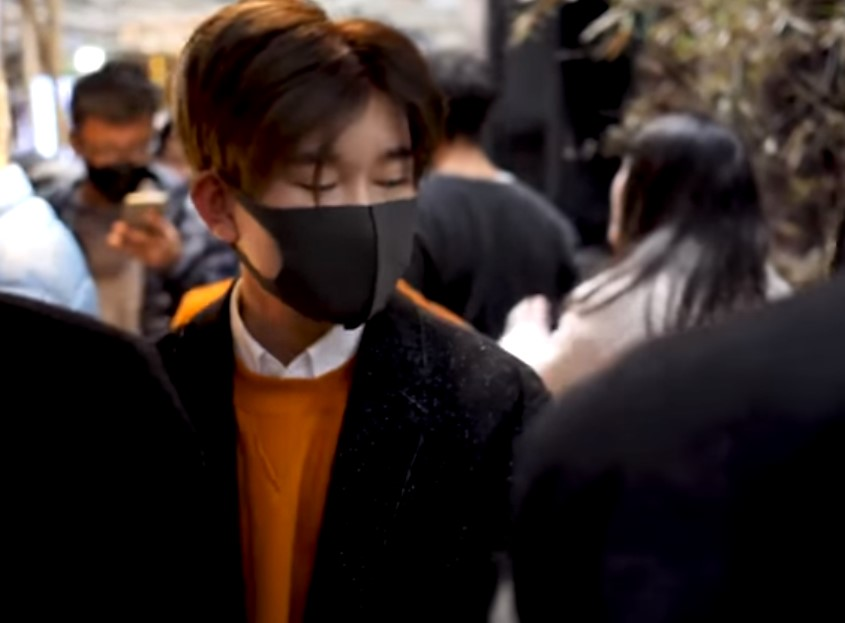face_with_mask: (187, 20, 431, 336), (71, 73, 158, 197)
